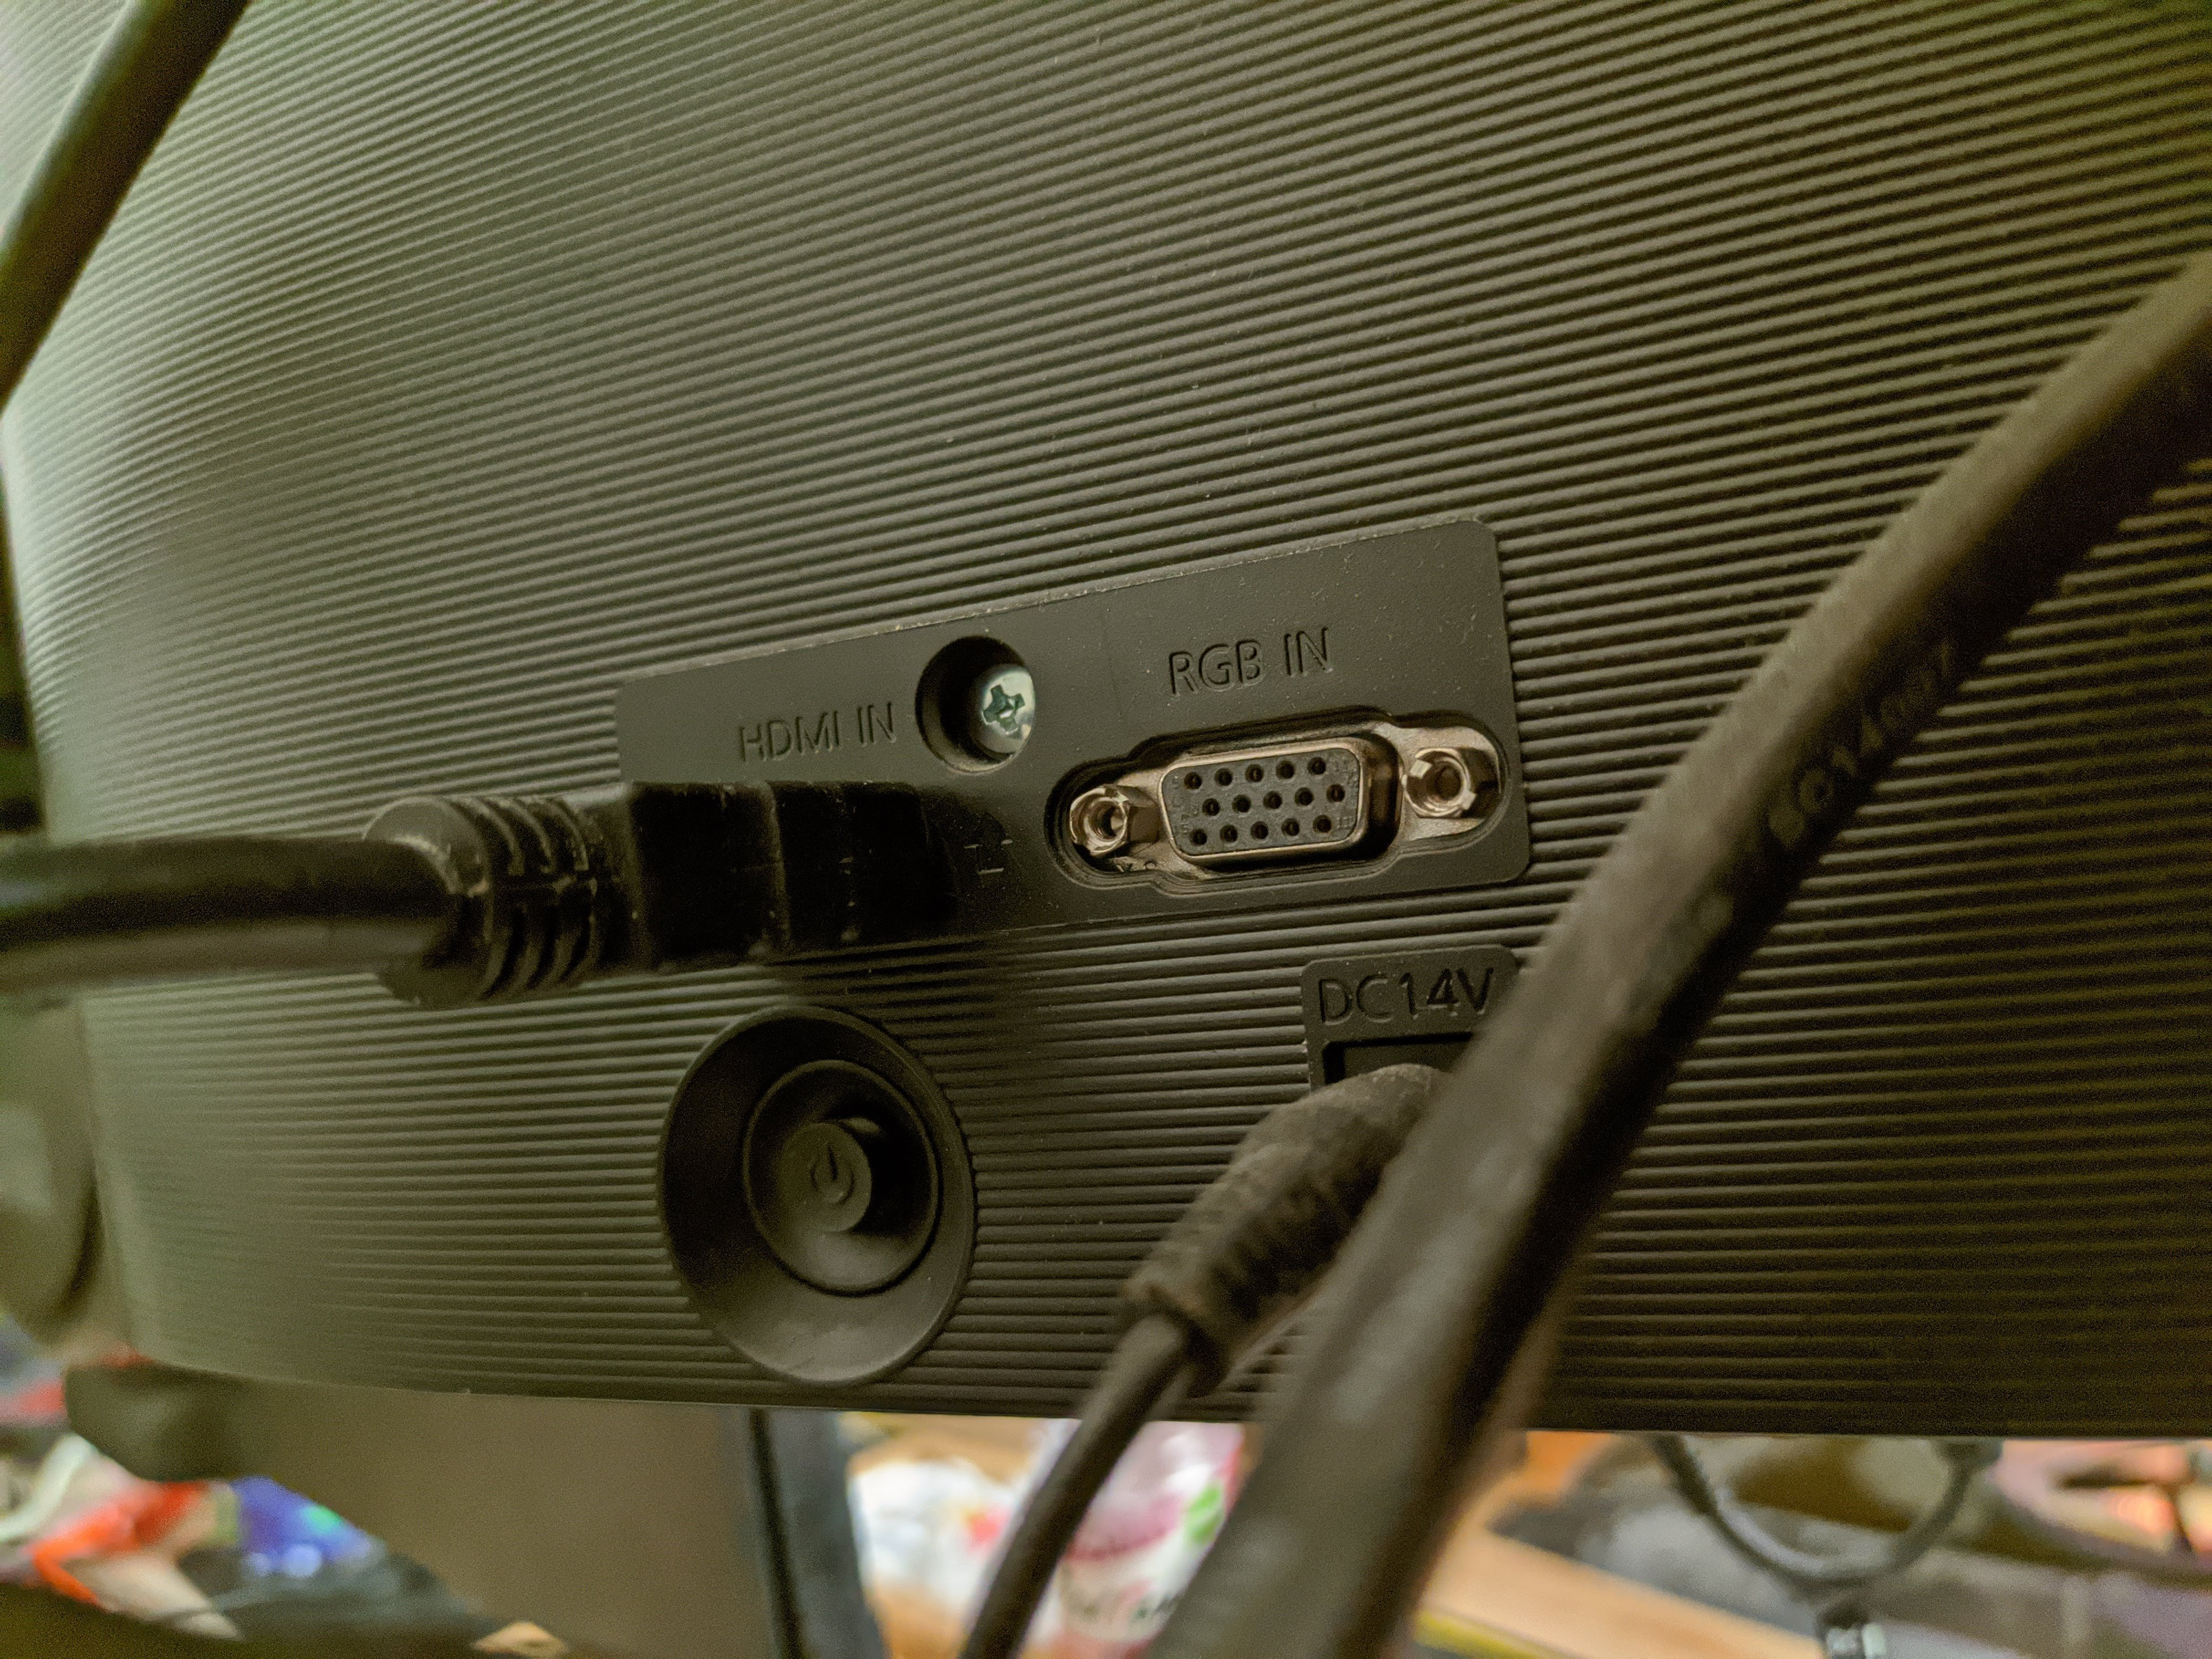VGA_in: (1049, 720, 1487, 873)
